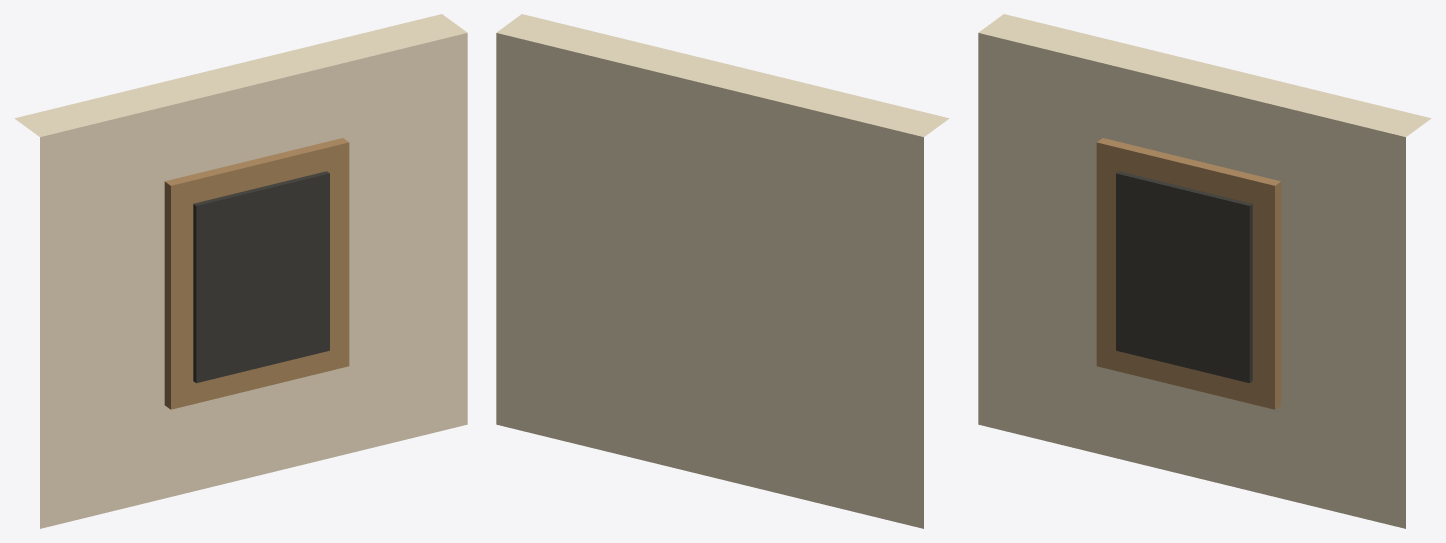
The model's file is dec_house_cream_window.glb.
3 renders of one model, left to right at view 1: azimuth 30°, elevation 25°; view 2: azimuth 150°, elevation 25°; view 3: azimuth 330°, elevation 25°, orthographic.
Parts seen in each view (by area): view 1: dec_house_cream_window_mesh; view 2: dec_house_cream_window_mesh; view 3: dec_house_cream_window_mesh.
Boxes of the visible parts, bbox=[...] form: dec_house_cream_window_mesh: bbox=[14, 14, 467, 528]; dec_house_cream_window_mesh: bbox=[496, 14, 949, 528]; dec_house_cream_window_mesh: bbox=[978, 14, 1431, 528].
Bounding box in the file's own units: 0.48 × 0.42 × 0.068.
1 material, 1 textured.
